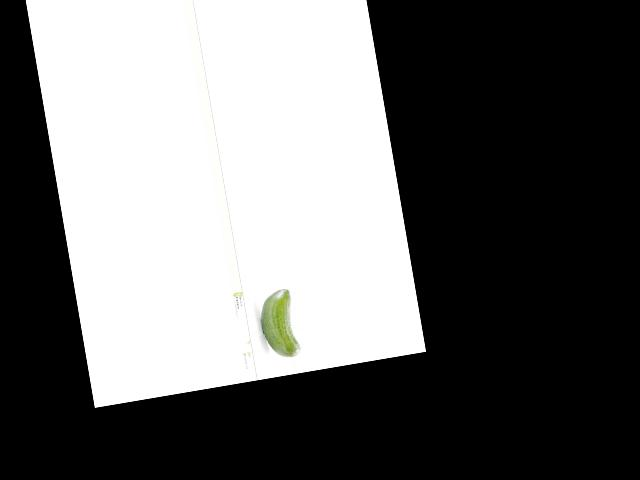cucumber: (256, 288, 300, 361)
